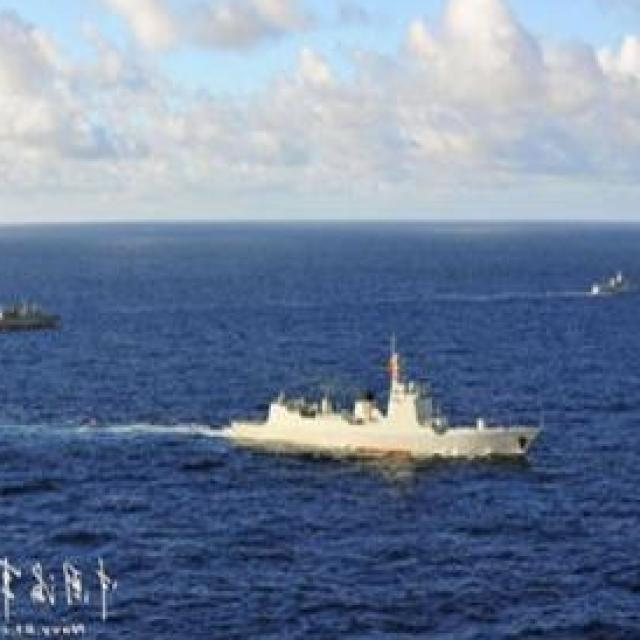navalvessels: (245, 353, 541, 467), (0, 294, 68, 336), (587, 268, 640, 293)
